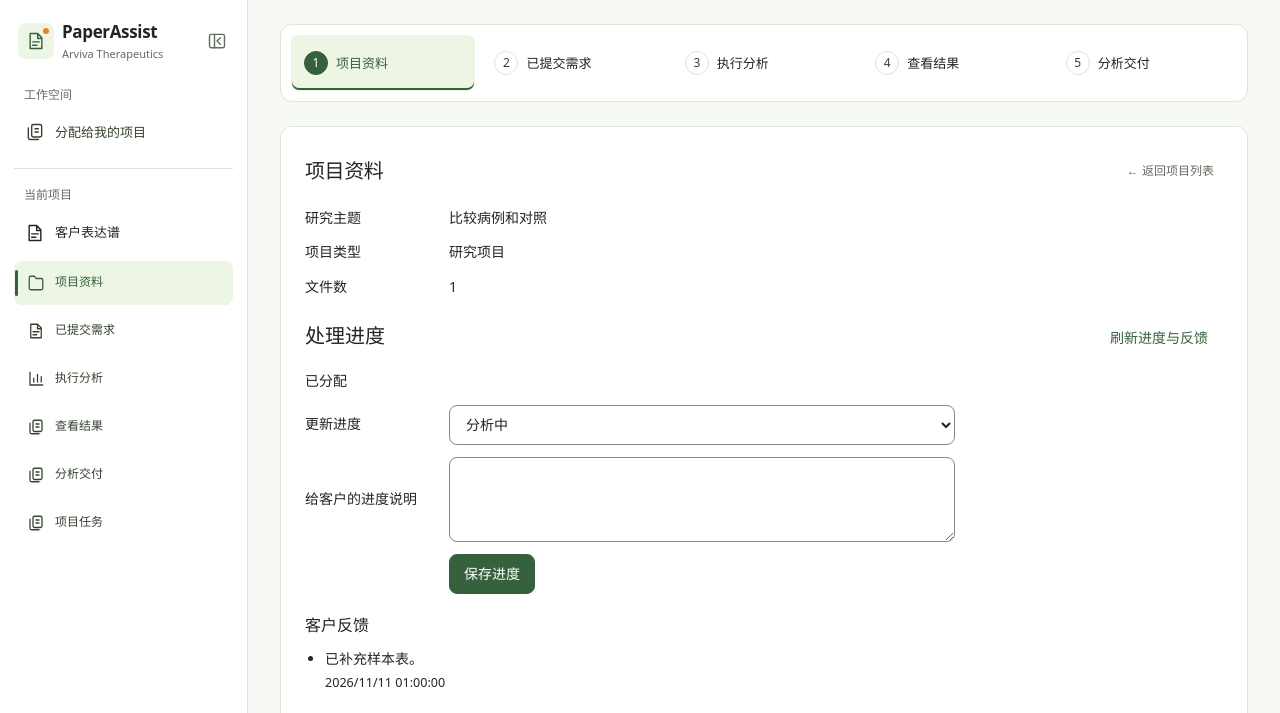
saving the progress draft preserves the other draft after remount
This screenshot has width=1280, height=713.
Later steps or results of the test are not shown.
Type "普通进度草稿。" into the text box labelled "给客户的进度说明".
click(702, 499); type("普通进度草稿。")  # box x1=449 y1=457 x2=955 y2=542
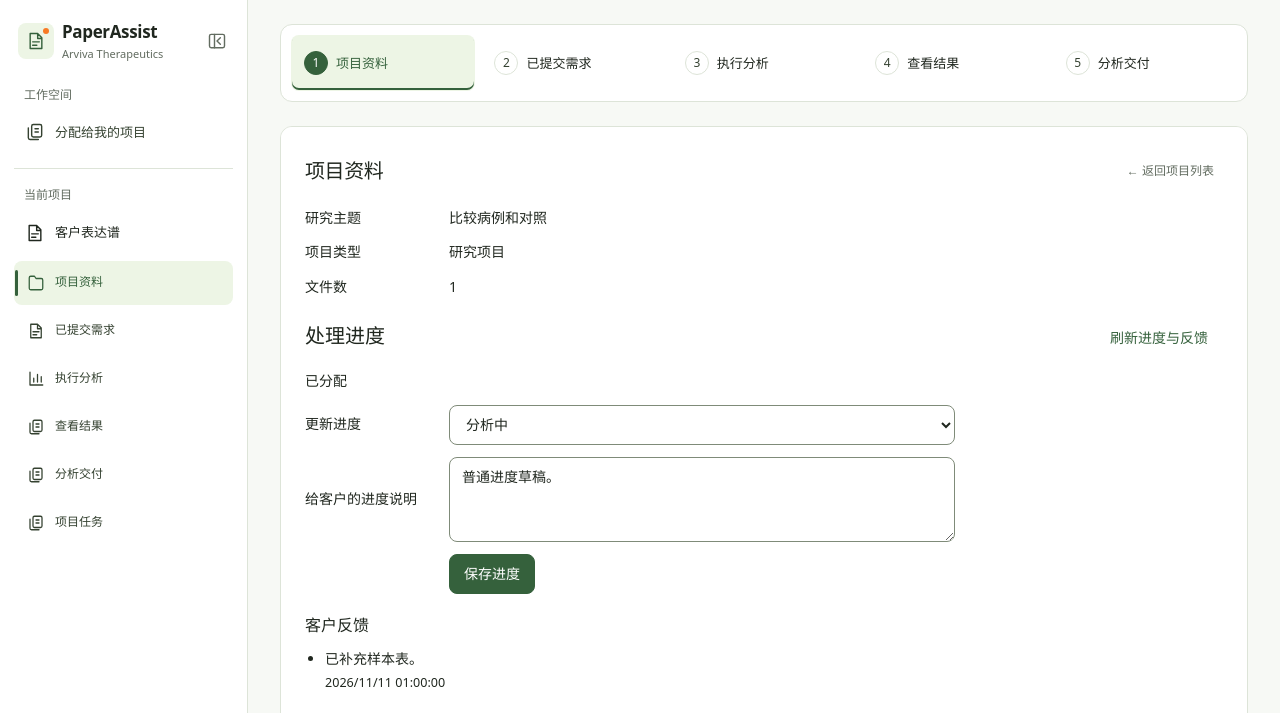
Click the button with aria-label "第 3 步：执行分析".
click(764, 63)  # box x1=672 y1=35 x2=856 y2=91
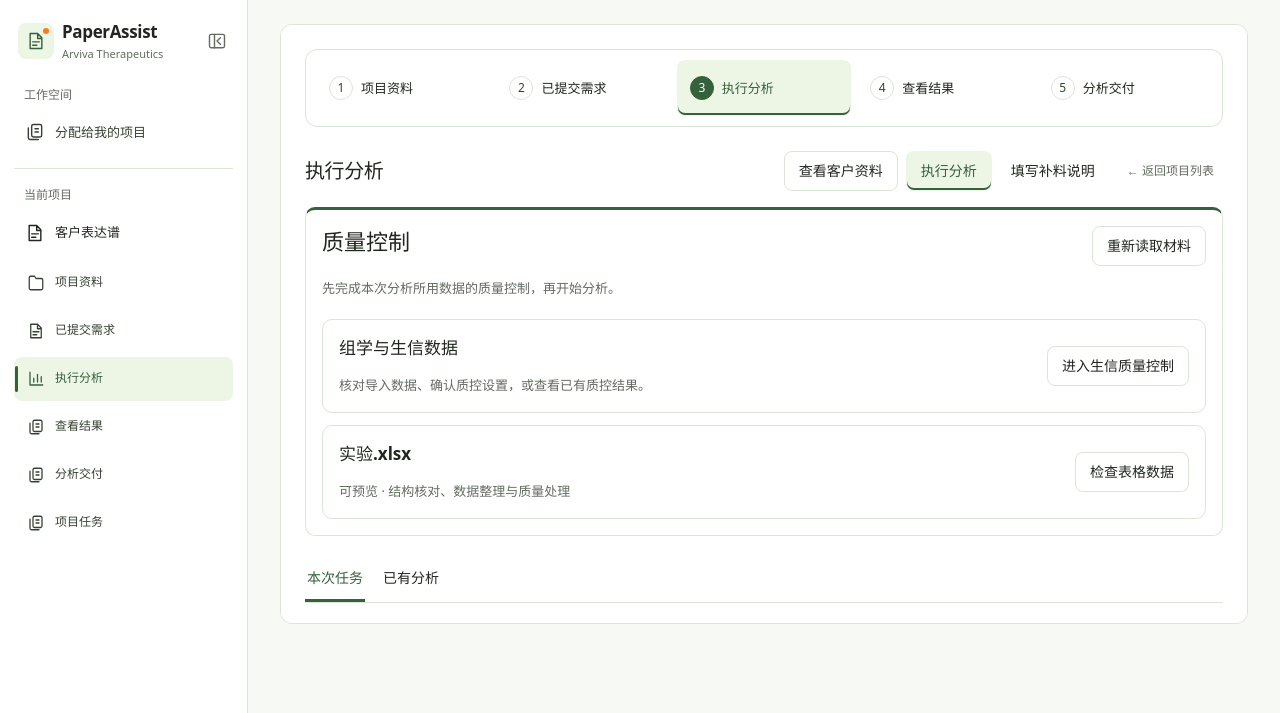
Click the button "填写补料说明".
click(1053, 171)  # box x1=996 y1=151 x2=1110 y2=191
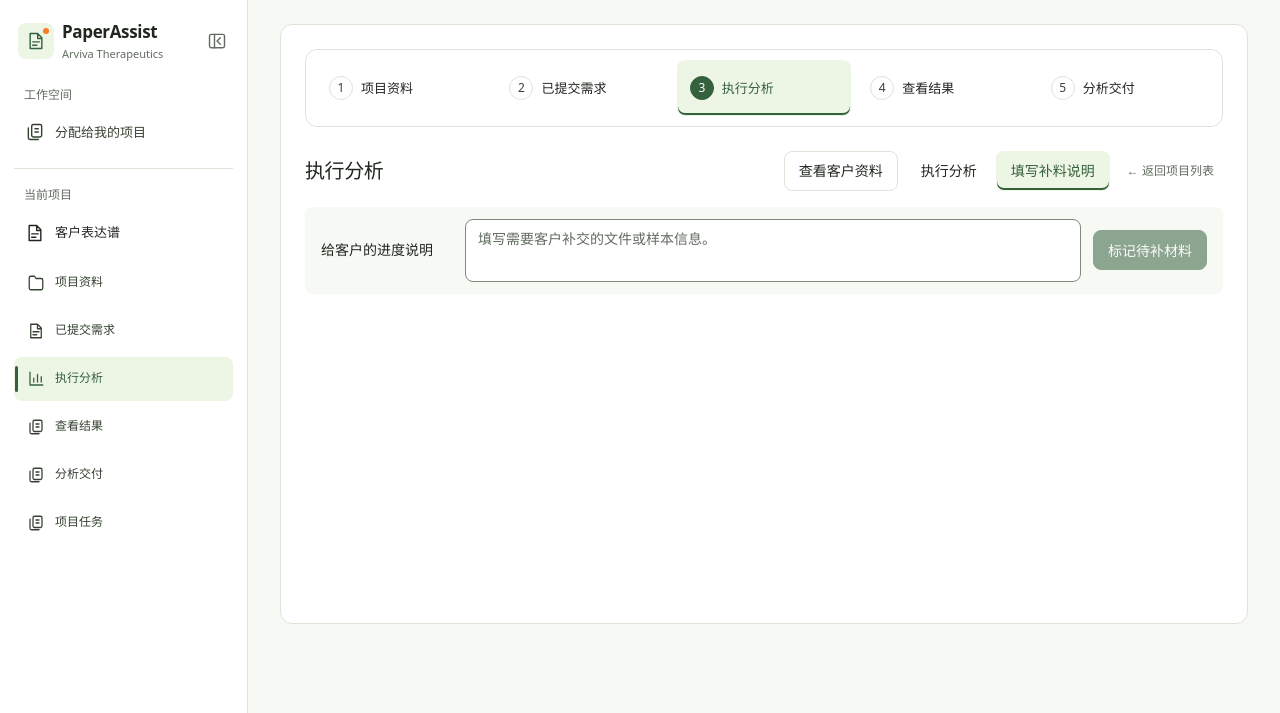
Type "补料草稿。" into the text box labelled "给客户的进度说明".
click(773, 250); type("补料草稿。")  # box x1=465 y1=219 x2=1081 y2=282
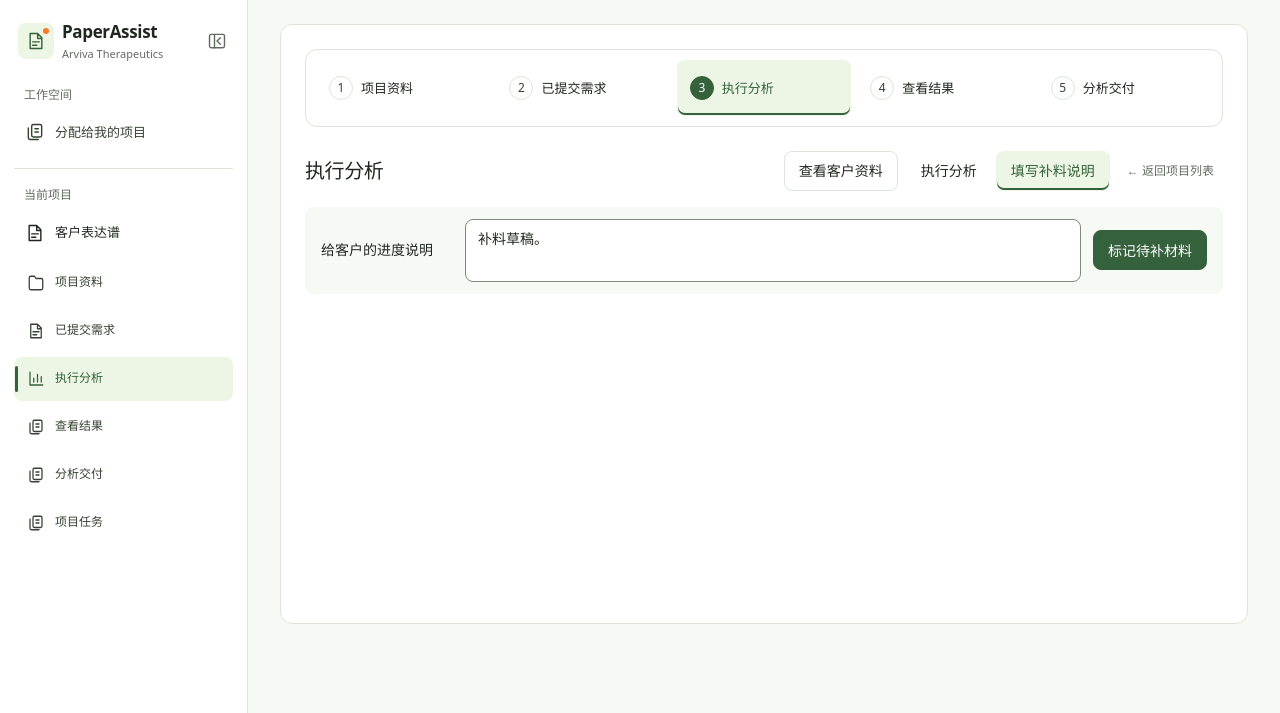
Click the button with aria-label "第 1 步：项目资料".
click(403, 88)  # box x1=316 y1=60 x2=490 y2=116
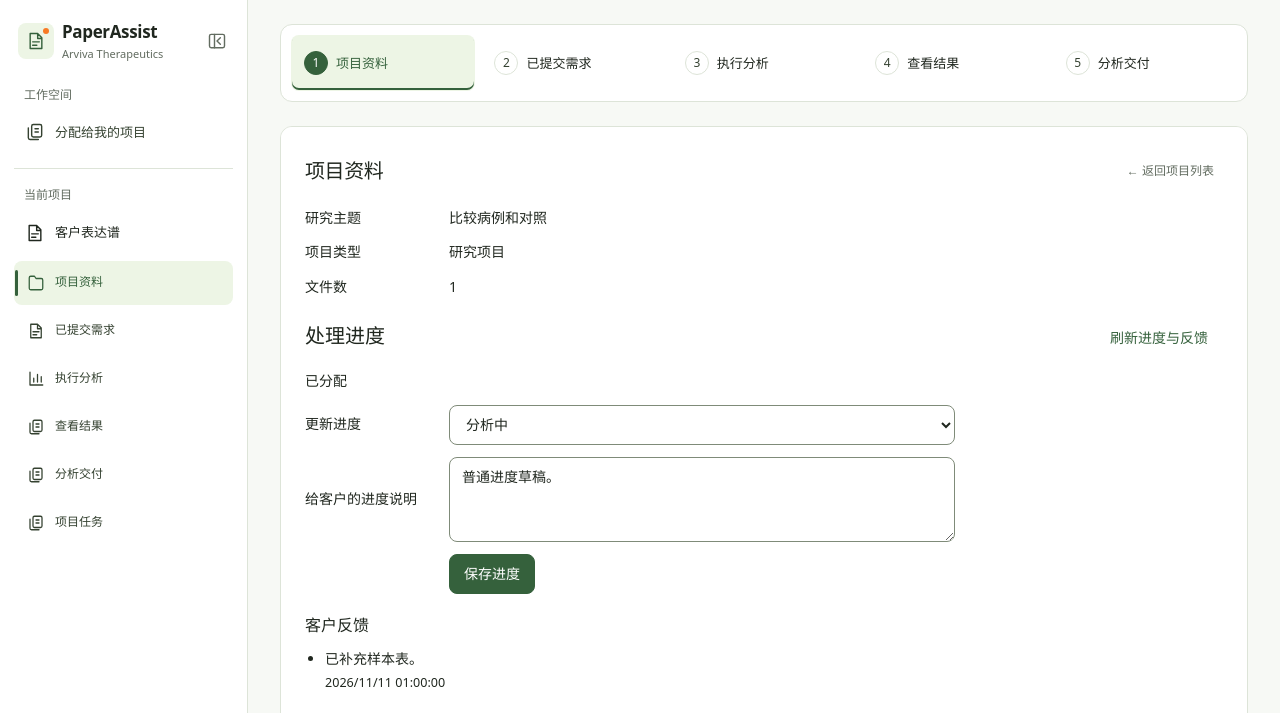
Check: the dropdown labelled "更新进度" is shown, box x1=449 y1=405 x2=955 y2=445
Click the button "保存进度".
click(492, 574)  # box x1=449 y1=554 x2=535 y2=594
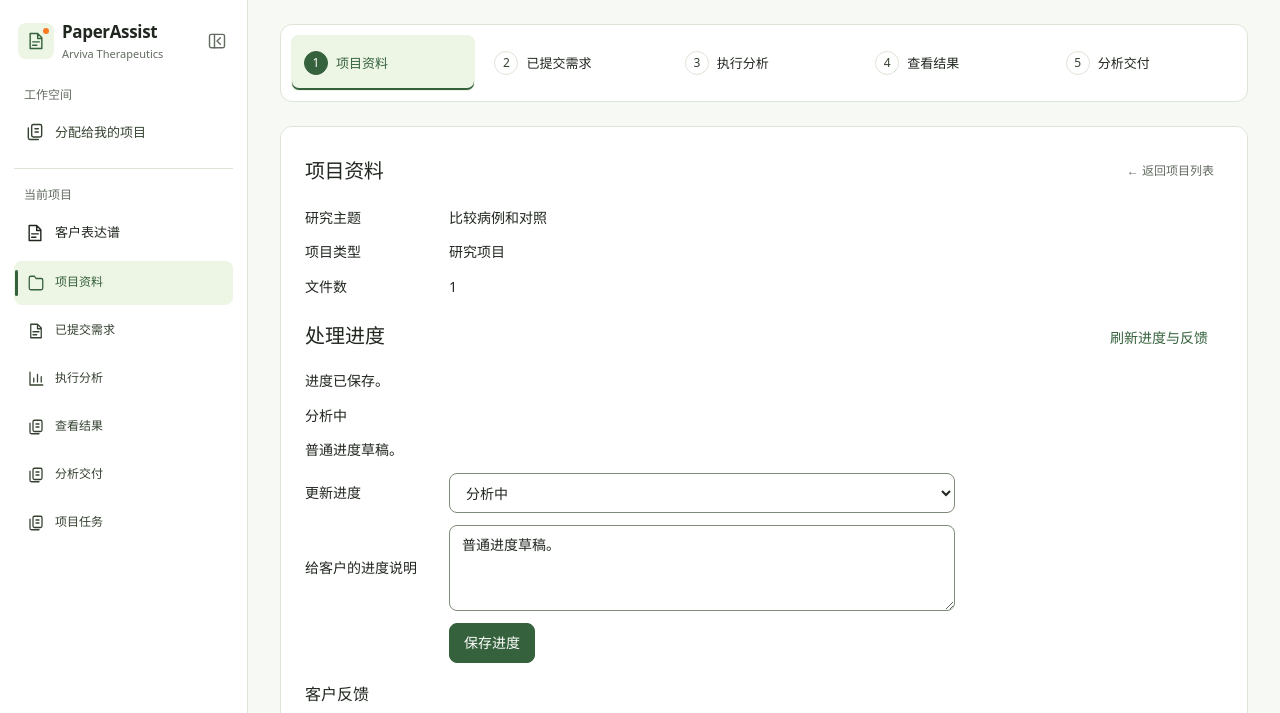
Check: the text "进度已保存。" is shown, box x1=305 y1=371 x2=389 y2=390
Check: the text "普通进度草稿。" is shown, box x1=305 y1=440 x2=403 y2=459
